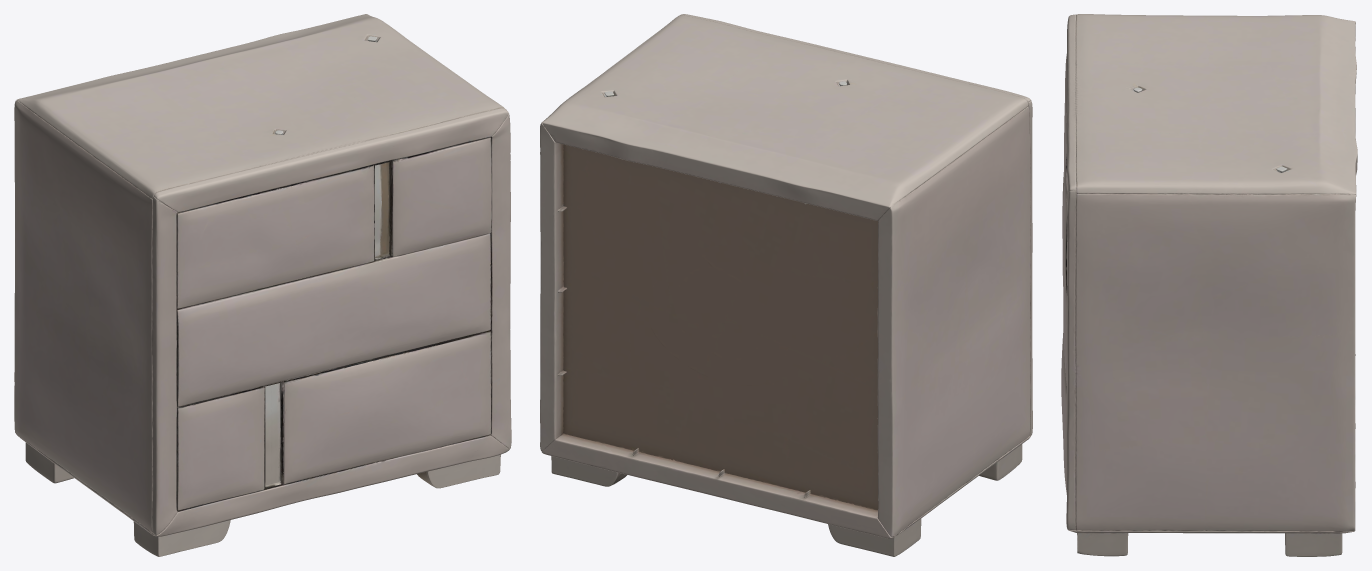
Rendered from No Name-06.glb.
The picture shows the model from 3 angles, left to right: view 1: azimuth 30°, elevation 25°; view 2: azimuth 150°, elevation 25°; view 3: azimuth 270°, elevation 25°; orthographic projection.
Parts seen in each view (by area): view 1: tripo_node_0ca43a84-a250-405c-9c5f-3048e7d1965f; view 2: tripo_node_0ca43a84-a250-405c-9c5f-3048e7d1965f; view 3: tripo_node_0ca43a84-a250-405c-9c5f-3048e7d1965f.
Boxes of the visible parts, left/top/right/bottom form: tripo_node_0ca43a84-a250-405c-9c5f-3048e7d1965f: left=14, top=14, right=511, bottom=556; tripo_node_0ca43a84-a250-405c-9c5f-3048e7d1965f: left=540, top=14, right=1032, bottom=556; tripo_node_0ca43a84-a250-405c-9c5f-3048e7d1965f: left=1061, top=14, right=1357, bottom=556.
Size of the model in its own units: 0.9794 by 0.9593 by 0.6873.
1 material, 1 textured.
